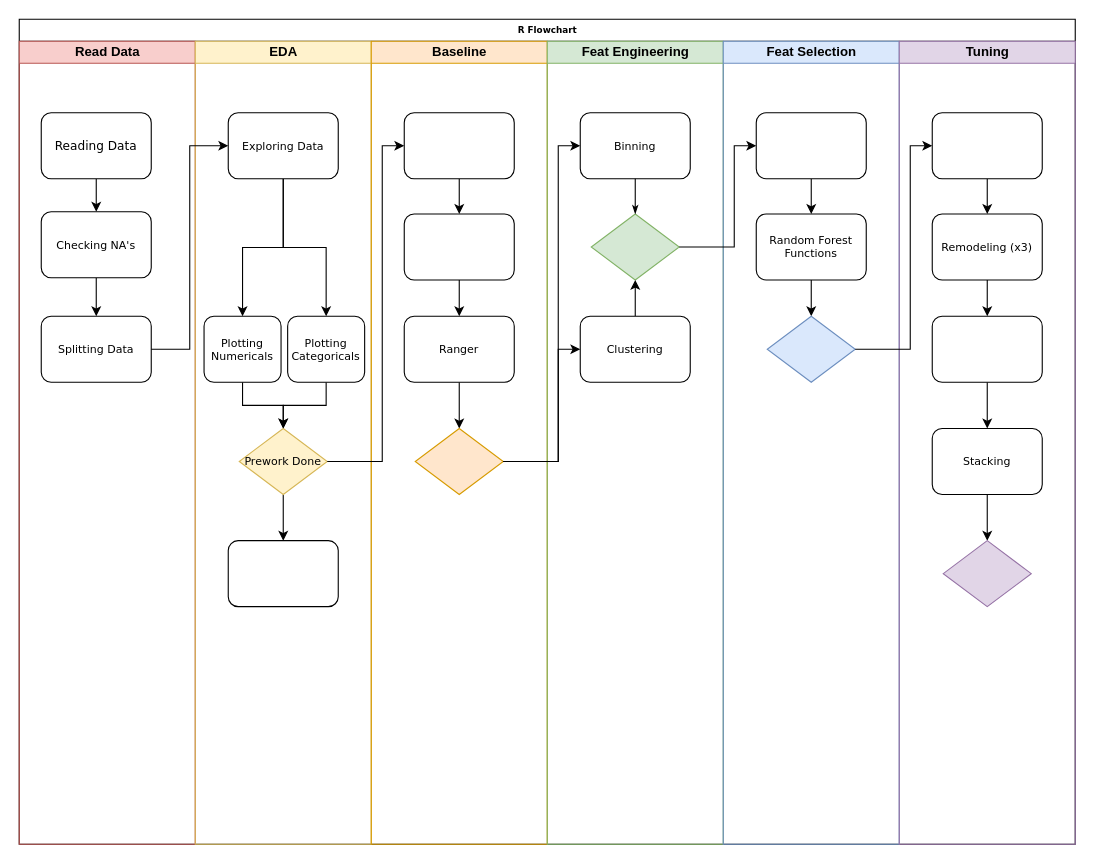
This 1095x864 diagram has some shape labels left out. Here are the shapes that lost their labels. From the top down, the centre of each, then its label:
At (458,145): "Log Reg".
At (810,145): "Lasso Log Reg".
At (986,145): "GridSearch".
At (458,246): "XGB".
At (634,246): "FE Done".
At (810,348): "Feature Selection Done".
At (986,348): "Correlation of Predictions".
At (458,460): "Baseline Done".
At (282,573): "Create Shiny App".
At (986,573): "Tuning Done".
